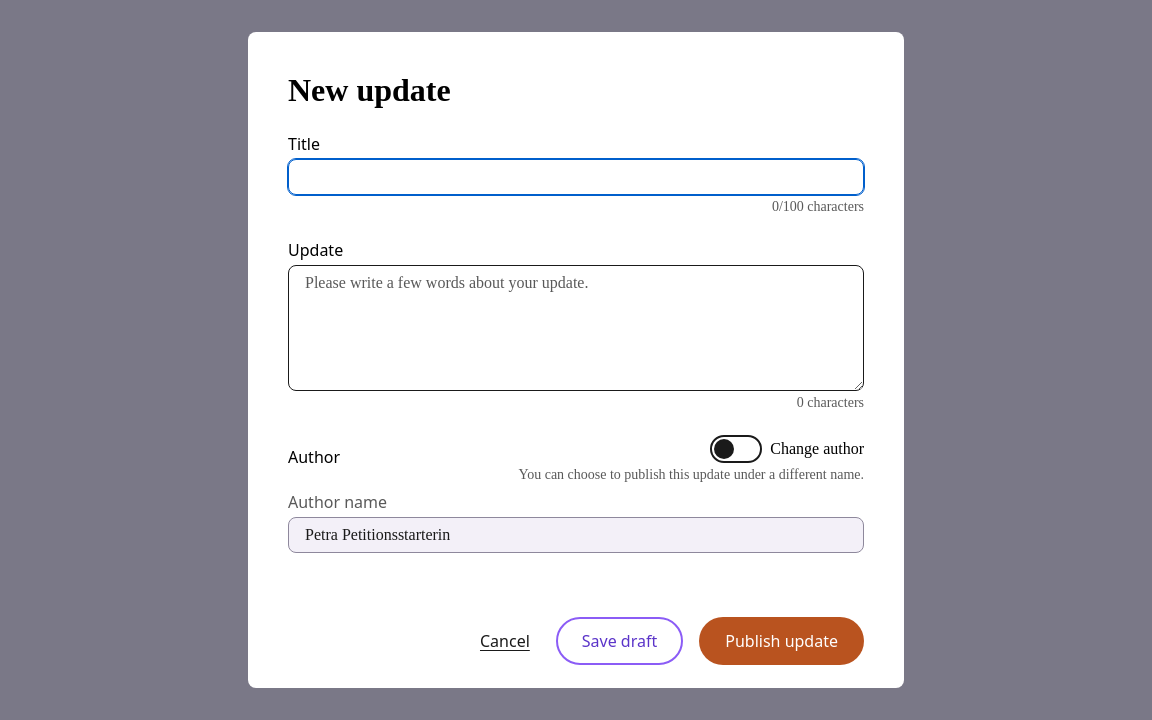
UpdateDialog › clears the text fields and the saved draft when Cancel is clicked
Type "Release notes" into the field labelled "Title".
click(576, 177); type("Release notes")  # box [288, 159, 864, 195]
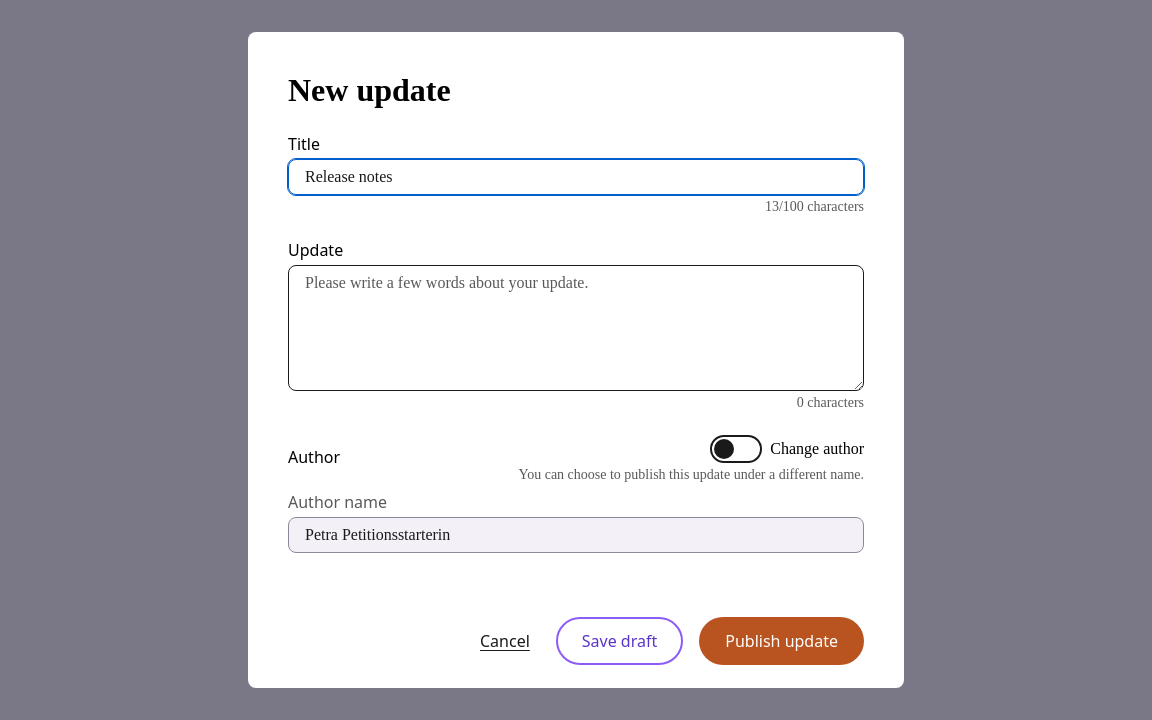
Type "Version 2 is out." into the text box labelled "Update".
click(576, 328); type("Version 2 is out.")  # box [288, 265, 864, 391]
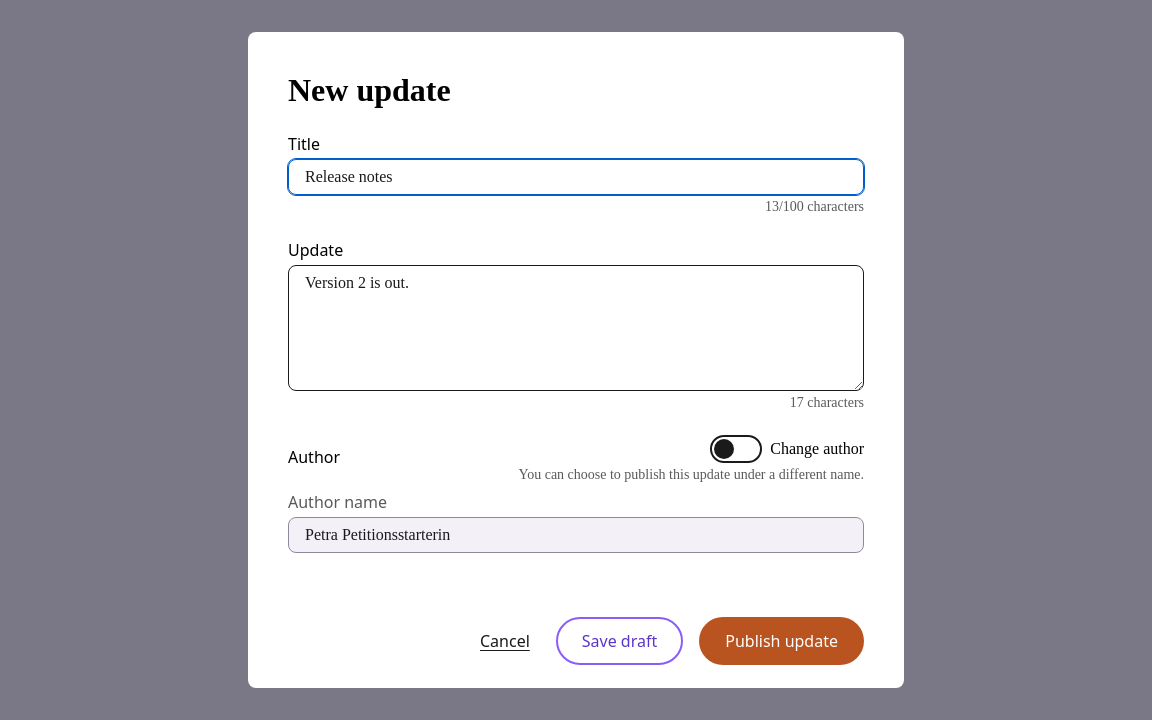
Click the switch labelled "Change author".
click(736, 449)  # box [710, 435, 762, 463]
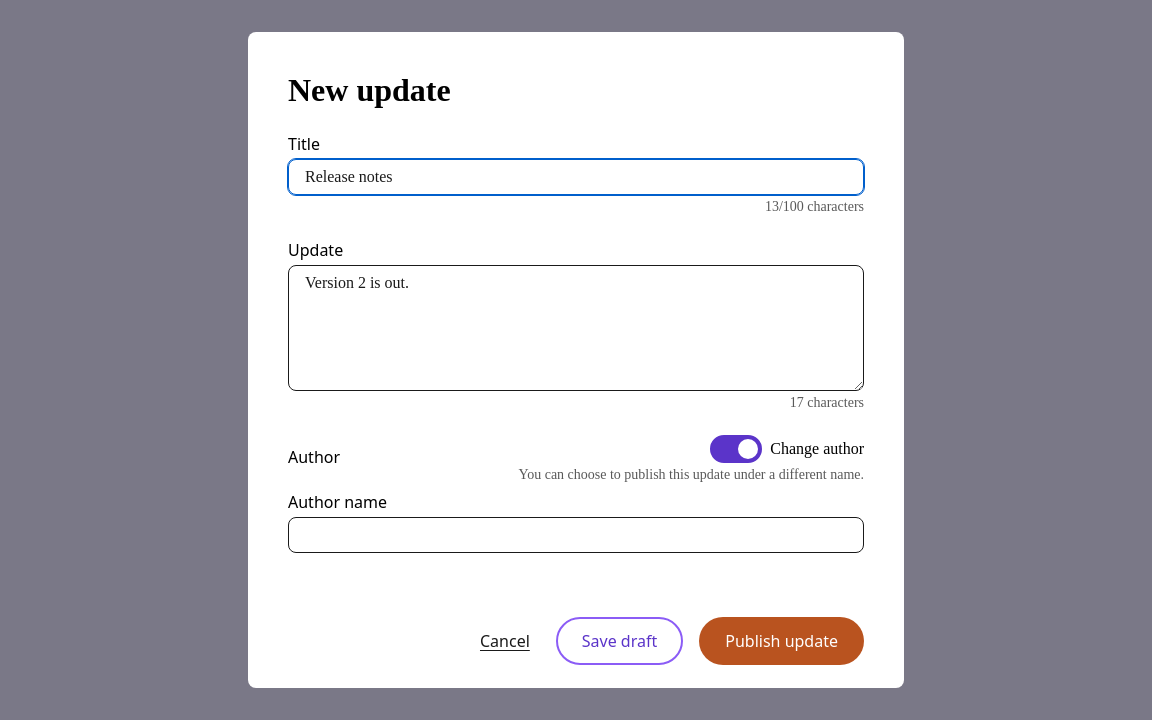
Type "Sam" into the field labelled "Author name".
click(576, 535); type("Sam")  # box [288, 517, 864, 553]
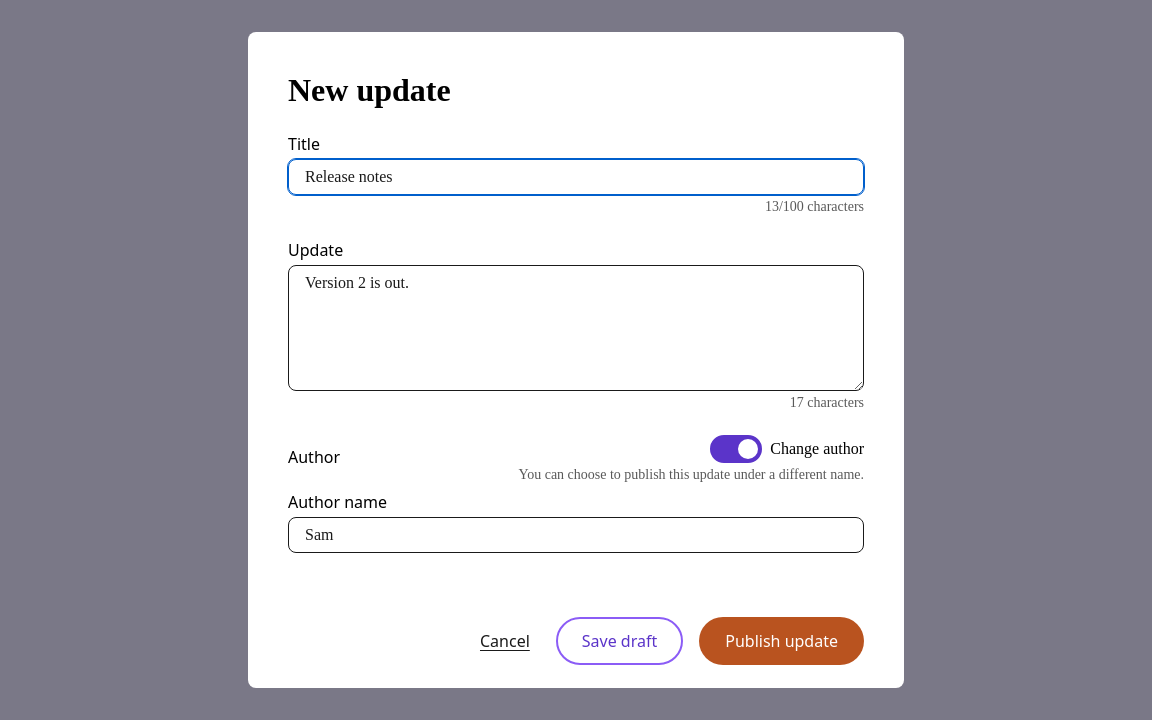
Click the button "Save draft".
click(620, 641)  # box [556, 617, 683, 665]
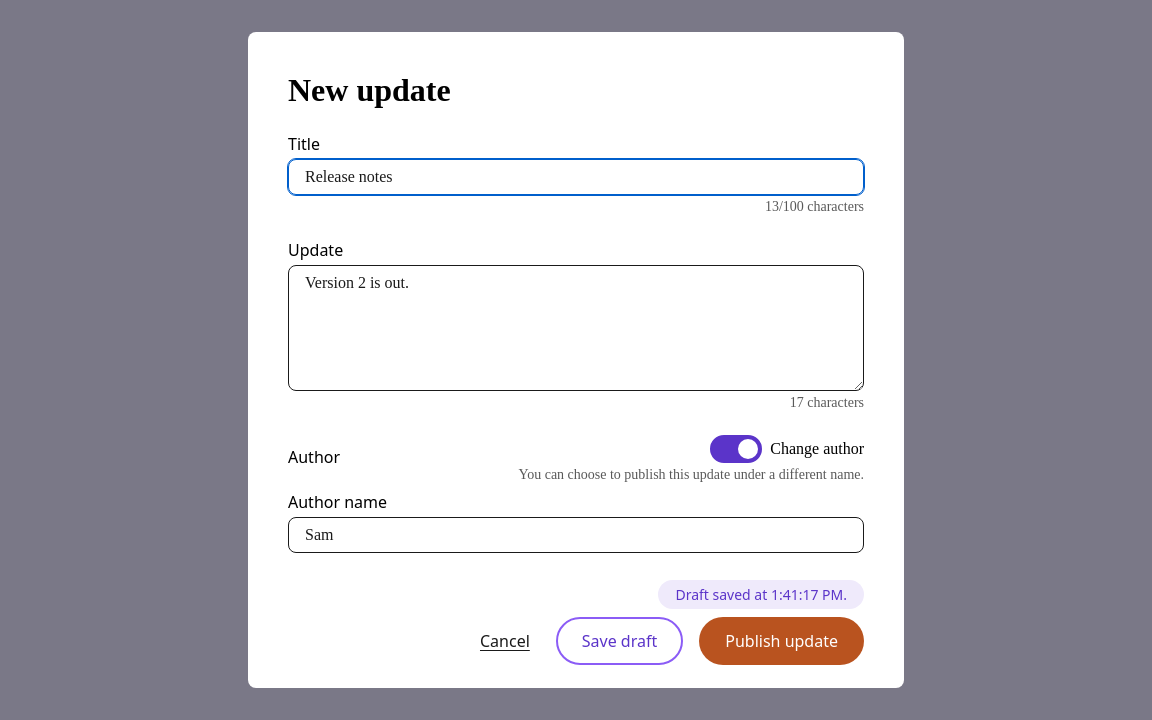
Click the button "Cancel".
click(505, 641)  # box [470, 617, 540, 665]
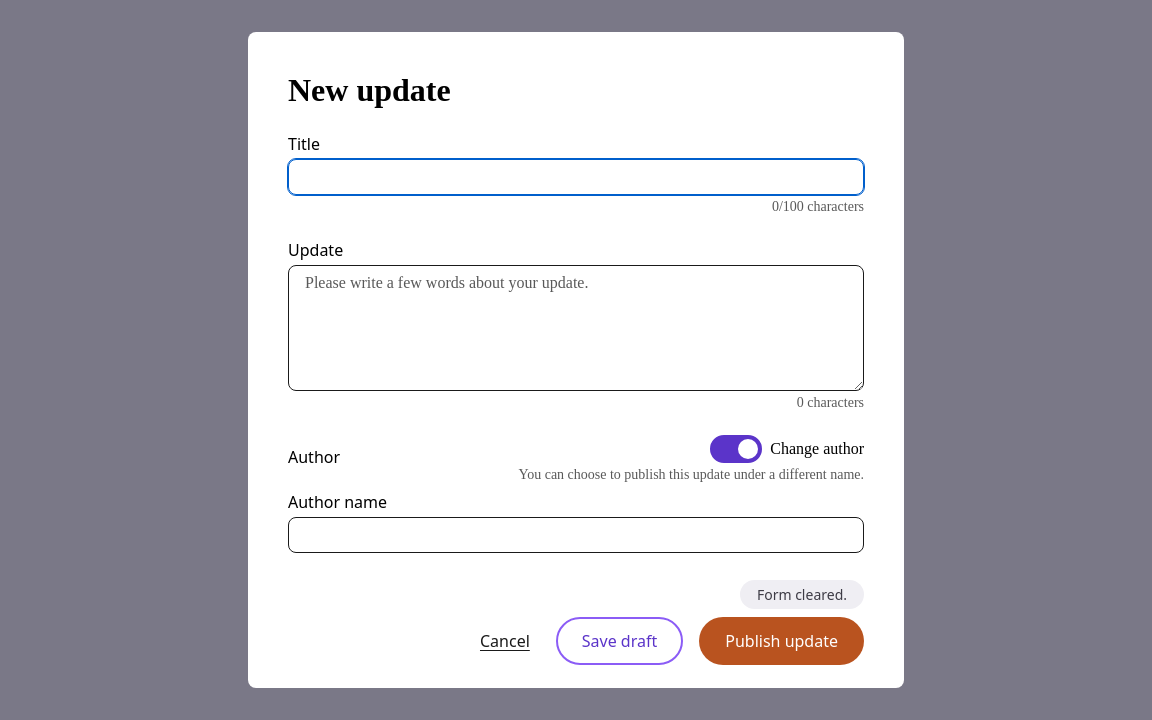
Check: the field labelled "Title" is empty, box [288, 159, 864, 195]
Check: the text box labelled "Update" is empty, box [288, 265, 864, 391]
Check: the field labelled "Author name" is empty, box [288, 517, 864, 553]
